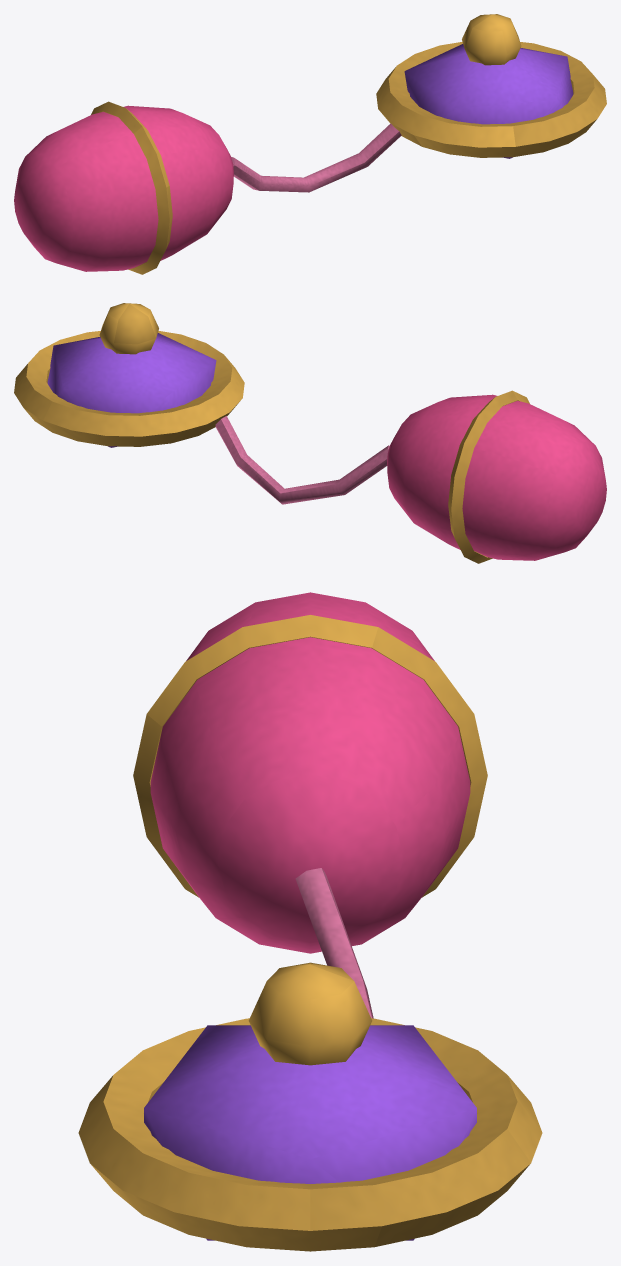
File: Toy_RemoteEgg.fbx
3 renders of one model, top to bottom at view 1: azimuth 30°, elevation 25°; view 2: azimuth 150°, elevation 25°; view 3: azimuth 270°, elevation 25°, orthographic. The views are drawn at different scales.
Visible parts, largest first — view 1: Toy_RemoteEgg; view 2: Toy_RemoteEgg; view 3: Toy_RemoteEgg.
Boxes of the visible parts, <box> form: Toy_RemoteEgg: <box>14,14,606,274</box>; Toy_RemoteEgg: <box>14,303,606,563</box>; Toy_RemoteEgg: <box>78,592,542,1251</box>.
Size of the model in its own units: 0.1265 by 0.0352 by 0.045.
Materials: 4 (4 with a texture image).
